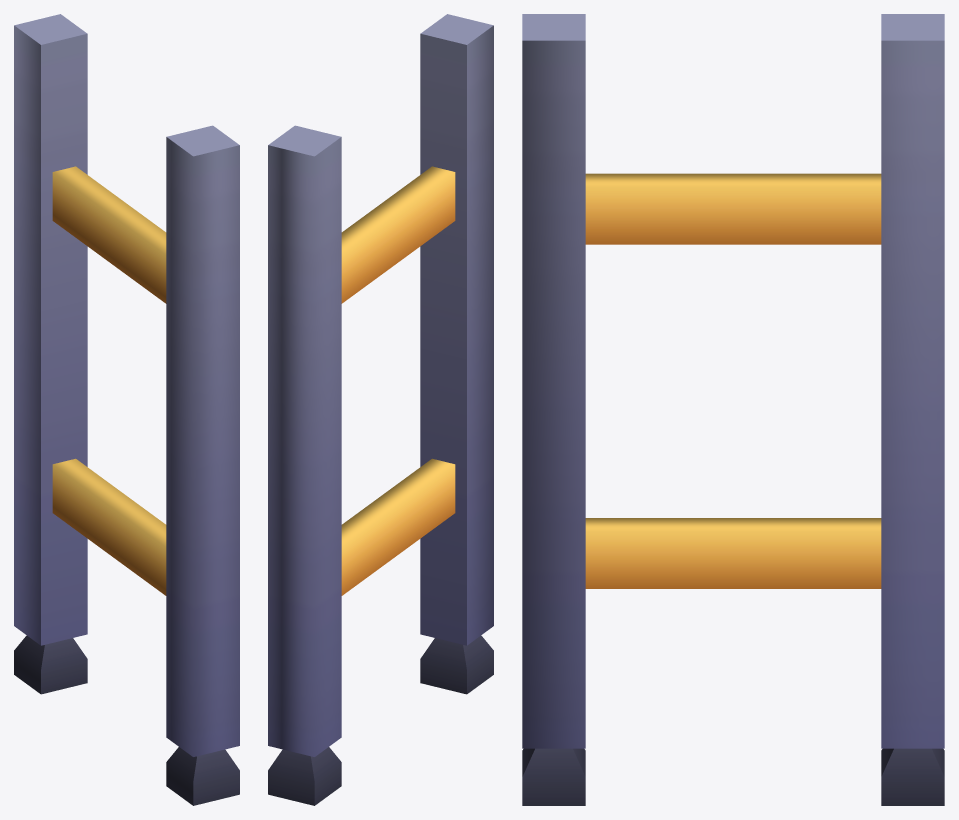
Rendered from kenney-conveyor-structure-yellow-tall.glb.
The picture shows the model from 3 angles, left to right: view 1: azimuth 30°, elevation 25°; view 2: azimuth 150°, elevation 25°; view 3: azimuth 270°, elevation 25°; orthographic projection. The views are drawn at different scales.
Visible parts, largest first — view 1: structure-yellow-tall; view 2: structure-yellow-tall; view 3: structure-yellow-tall.
Part boxes in pixels (bbox=[...]): structure-yellow-tall: bbox=[14, 14, 239, 805]; structure-yellow-tall: bbox=[268, 14, 493, 805]; structure-yellow-tall: bbox=[522, 14, 944, 805].
Size of the model in its own units: 0.1499 by 2 by 1.
1 material, 1 textured.
